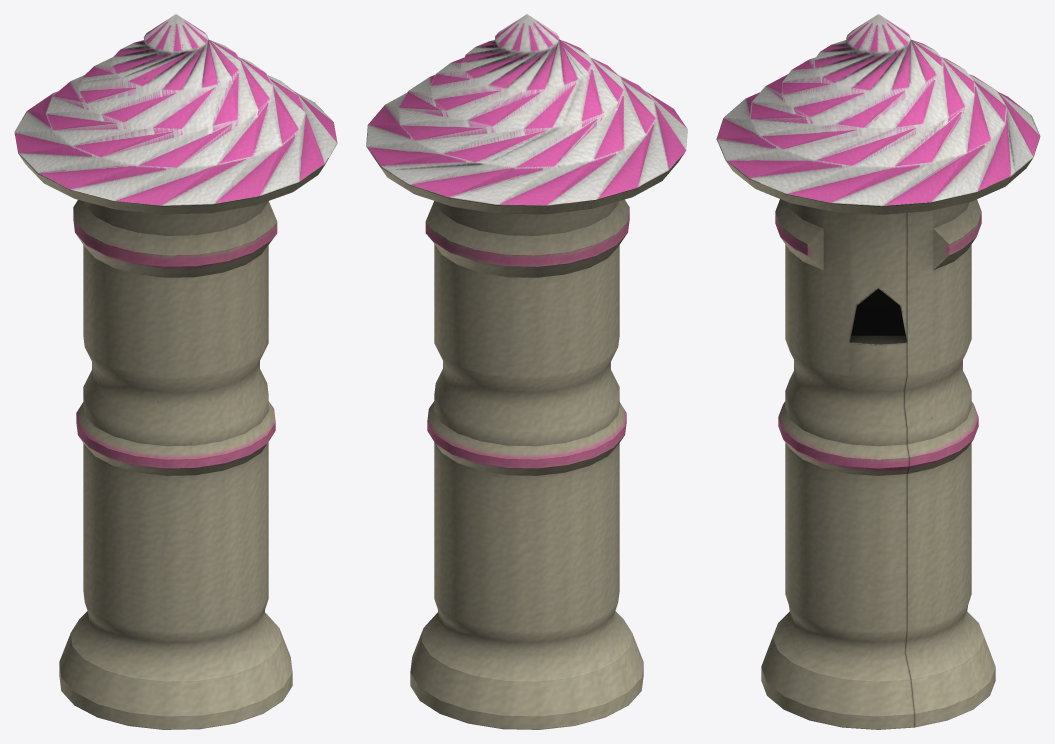
File: zxy_Tower.fbx
3 renders of one model, left to right at view 1: azimuth 30°, elevation 25°; view 2: azimuth 150°, elevation 25°; view 3: azimuth 270°, elevation 25°, orthographic.
Parts seen in each view (by area): view 1: tower; view 2: tower; view 3: tower.
Part boxes in pixels (x1,y1,x2,y2): tower: (14, 14, 337, 729); tower: (366, 14, 687, 729); tower: (716, 14, 1040, 729).
Bounding box in the file's own units: 4.75 × 10.77 × 4.75.
